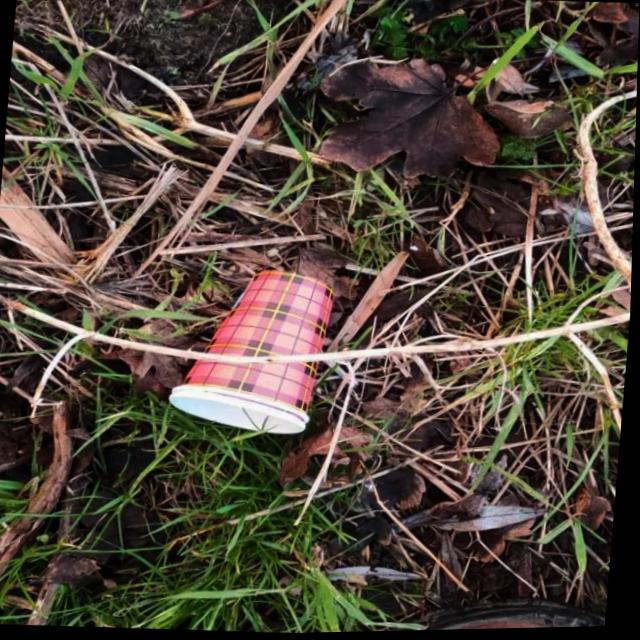Cup: (159, 251, 348, 447)
